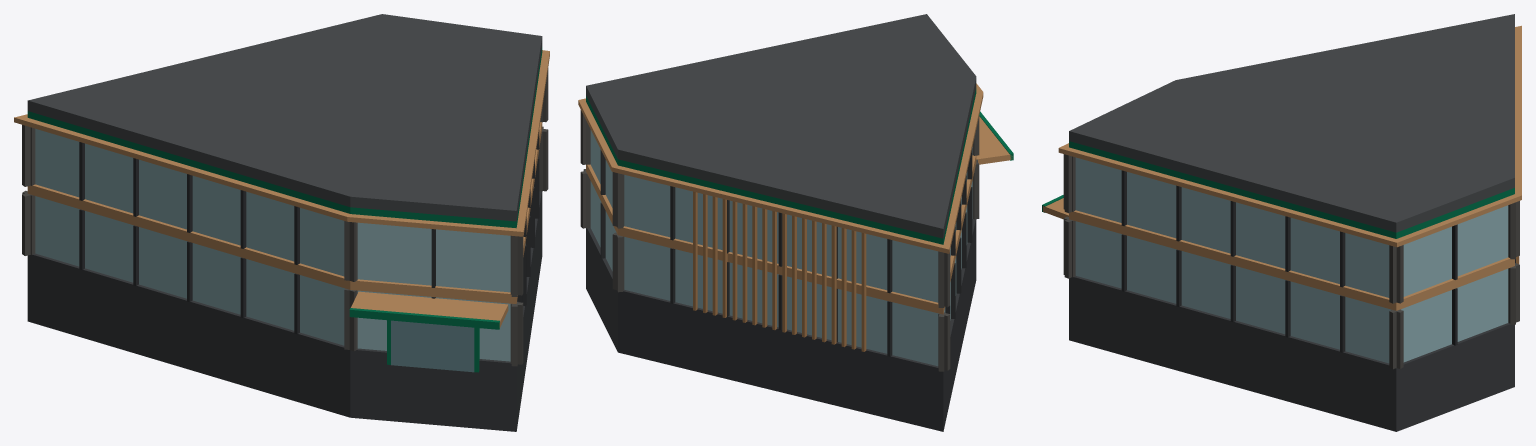
File: starbucks-yongchundong.glb
3 views of the same model, side by side, from view 1: azimuth 30°, elevation 25°; view 2: azimuth 150°, elevation 25°; view 3: azimuth 270°, elevation 25° (orthographic). The views are drawn at different scales.
Visible parts, largest first — view 1: starbucks-yongchundong; view 2: starbucks-yongchundong; view 3: starbucks-yongchundong.
Boxes of the visible parts, left/top/right/bottom form: starbucks-yongchundong: left=14, top=14, right=549, bottom=431; starbucks-yongchundong: left=578, top=14, right=1013, bottom=431; starbucks-yongchundong: left=1042, top=14, right=1521, bottom=431.
Size of the model in its own units: 25.59 by 11.5 by 23.9.
